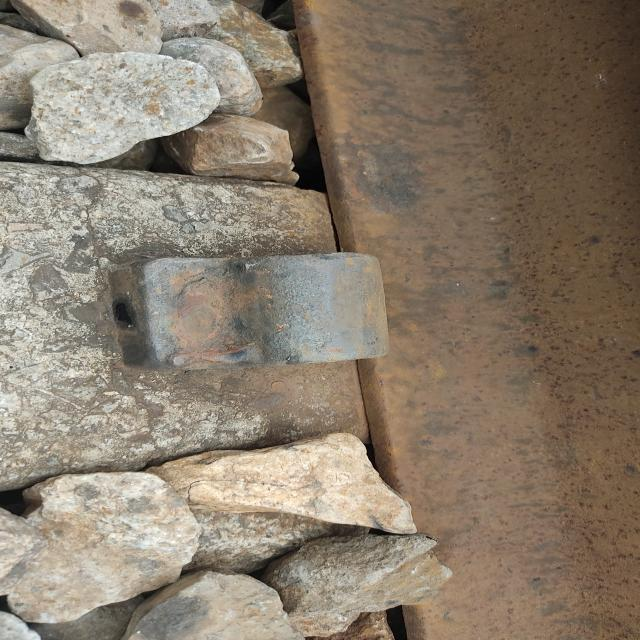track_bolt_missing: (235, 248, 398, 371)
